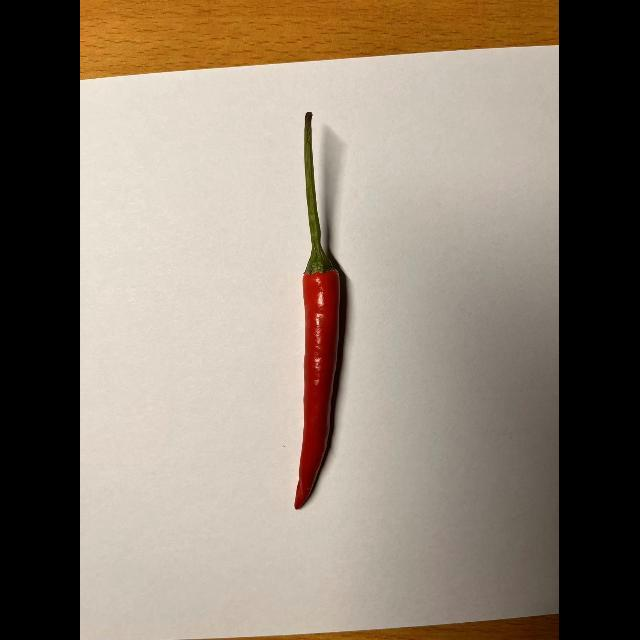chili_pepper: (273, 106, 352, 512)
